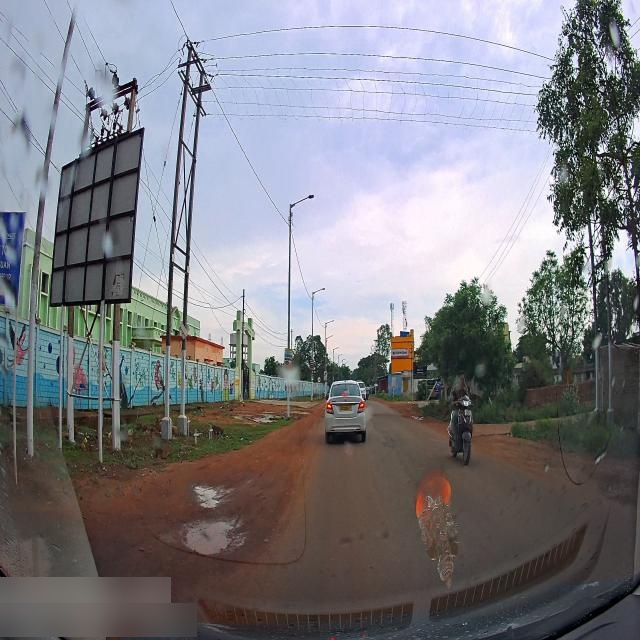pothole: (180, 508, 246, 564), (10, 538, 55, 584), (188, 486, 234, 513)
